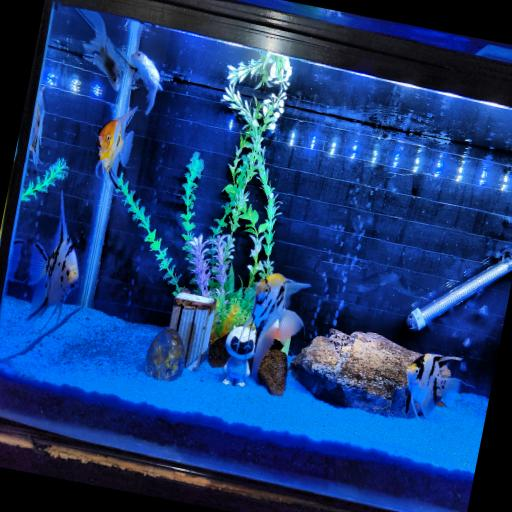Fish: (26, 194, 79, 329), (244, 274, 309, 381), (77, 8, 122, 91), (406, 354, 461, 419), (96, 108, 137, 188), (131, 51, 162, 115), (30, 87, 45, 168), (8, 239, 24, 280)
